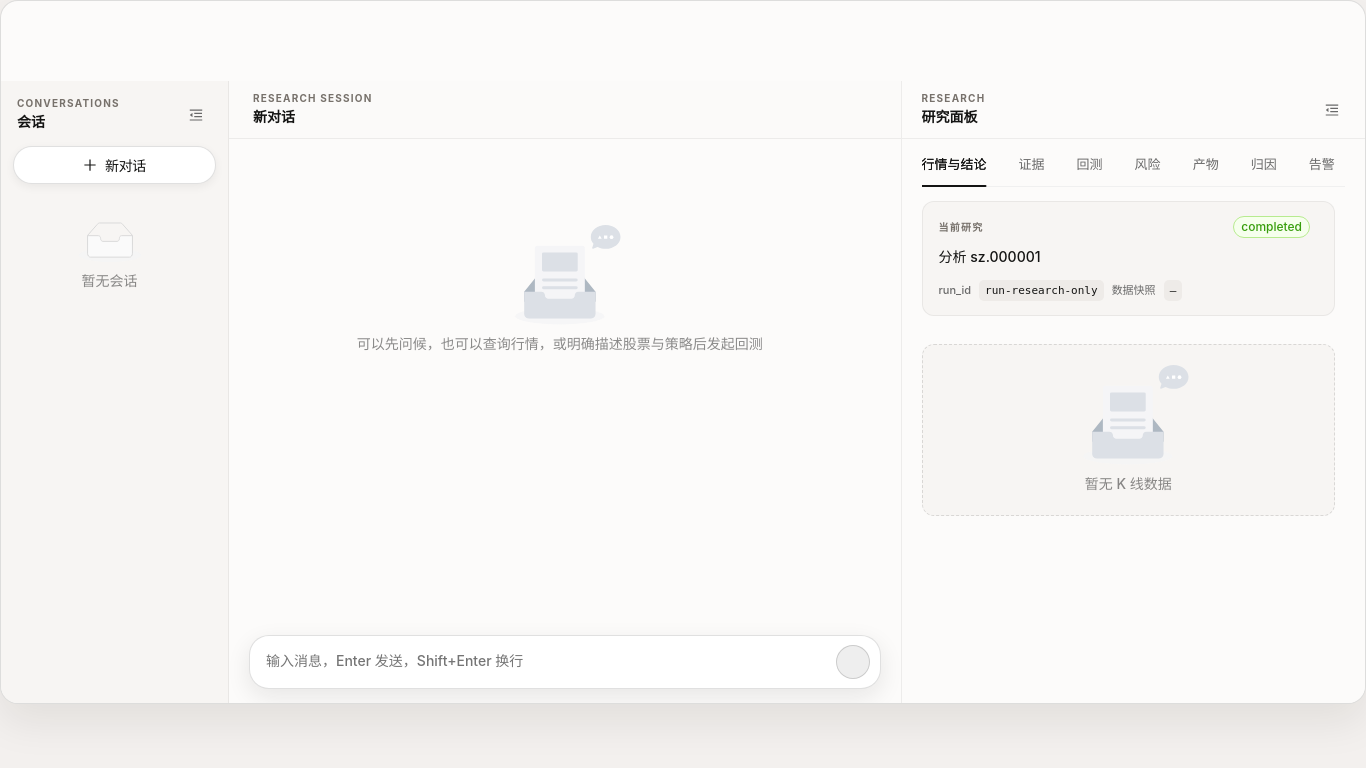
Test case: AgentWorkspace › 研究 run 未包含回测时给出补充策略提示
The width and height of the screenshot is (1366, 768).
Click the tab "回测" at coordinates (1090, 164), box [1077,154,1103,175]
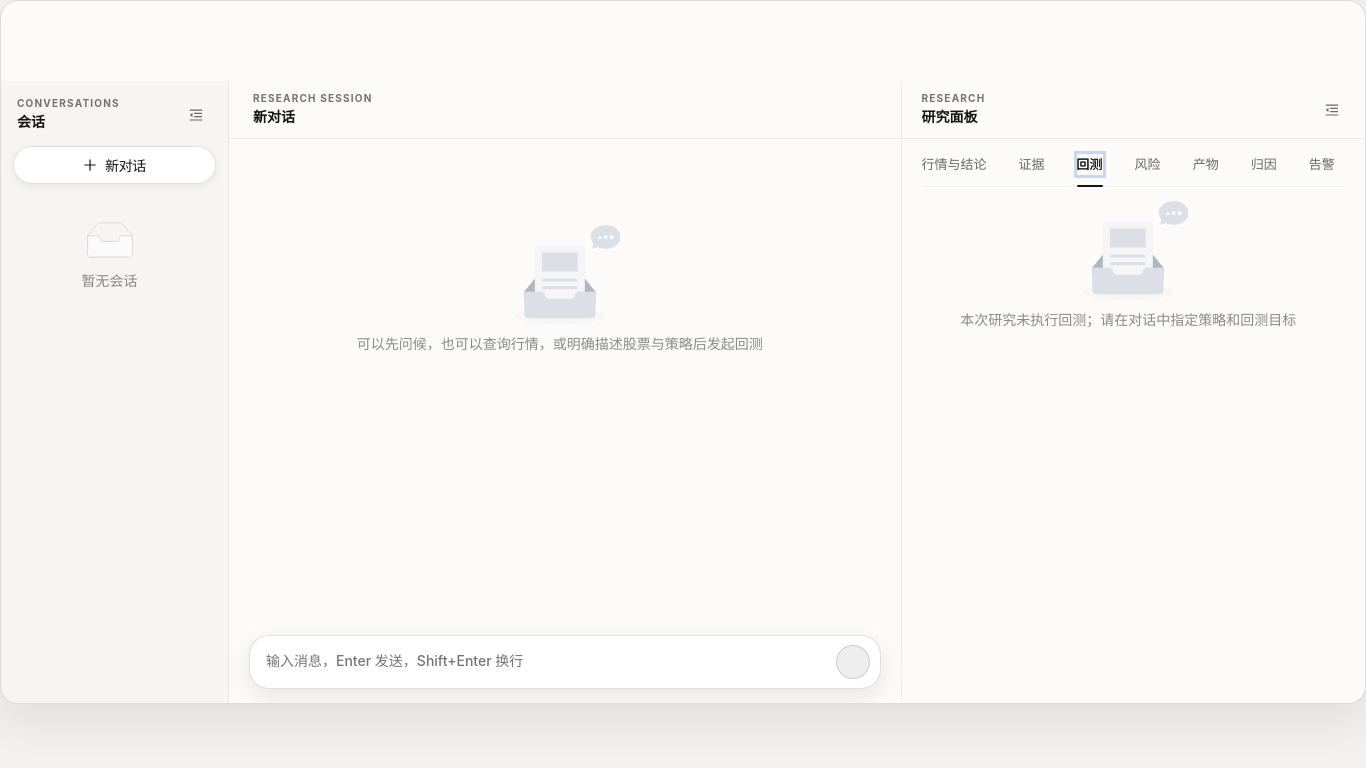
expect the text "本次研究未执行回测；请在对话中指定策略和回测目标" is shown: met, box [960,311,1296,328]
